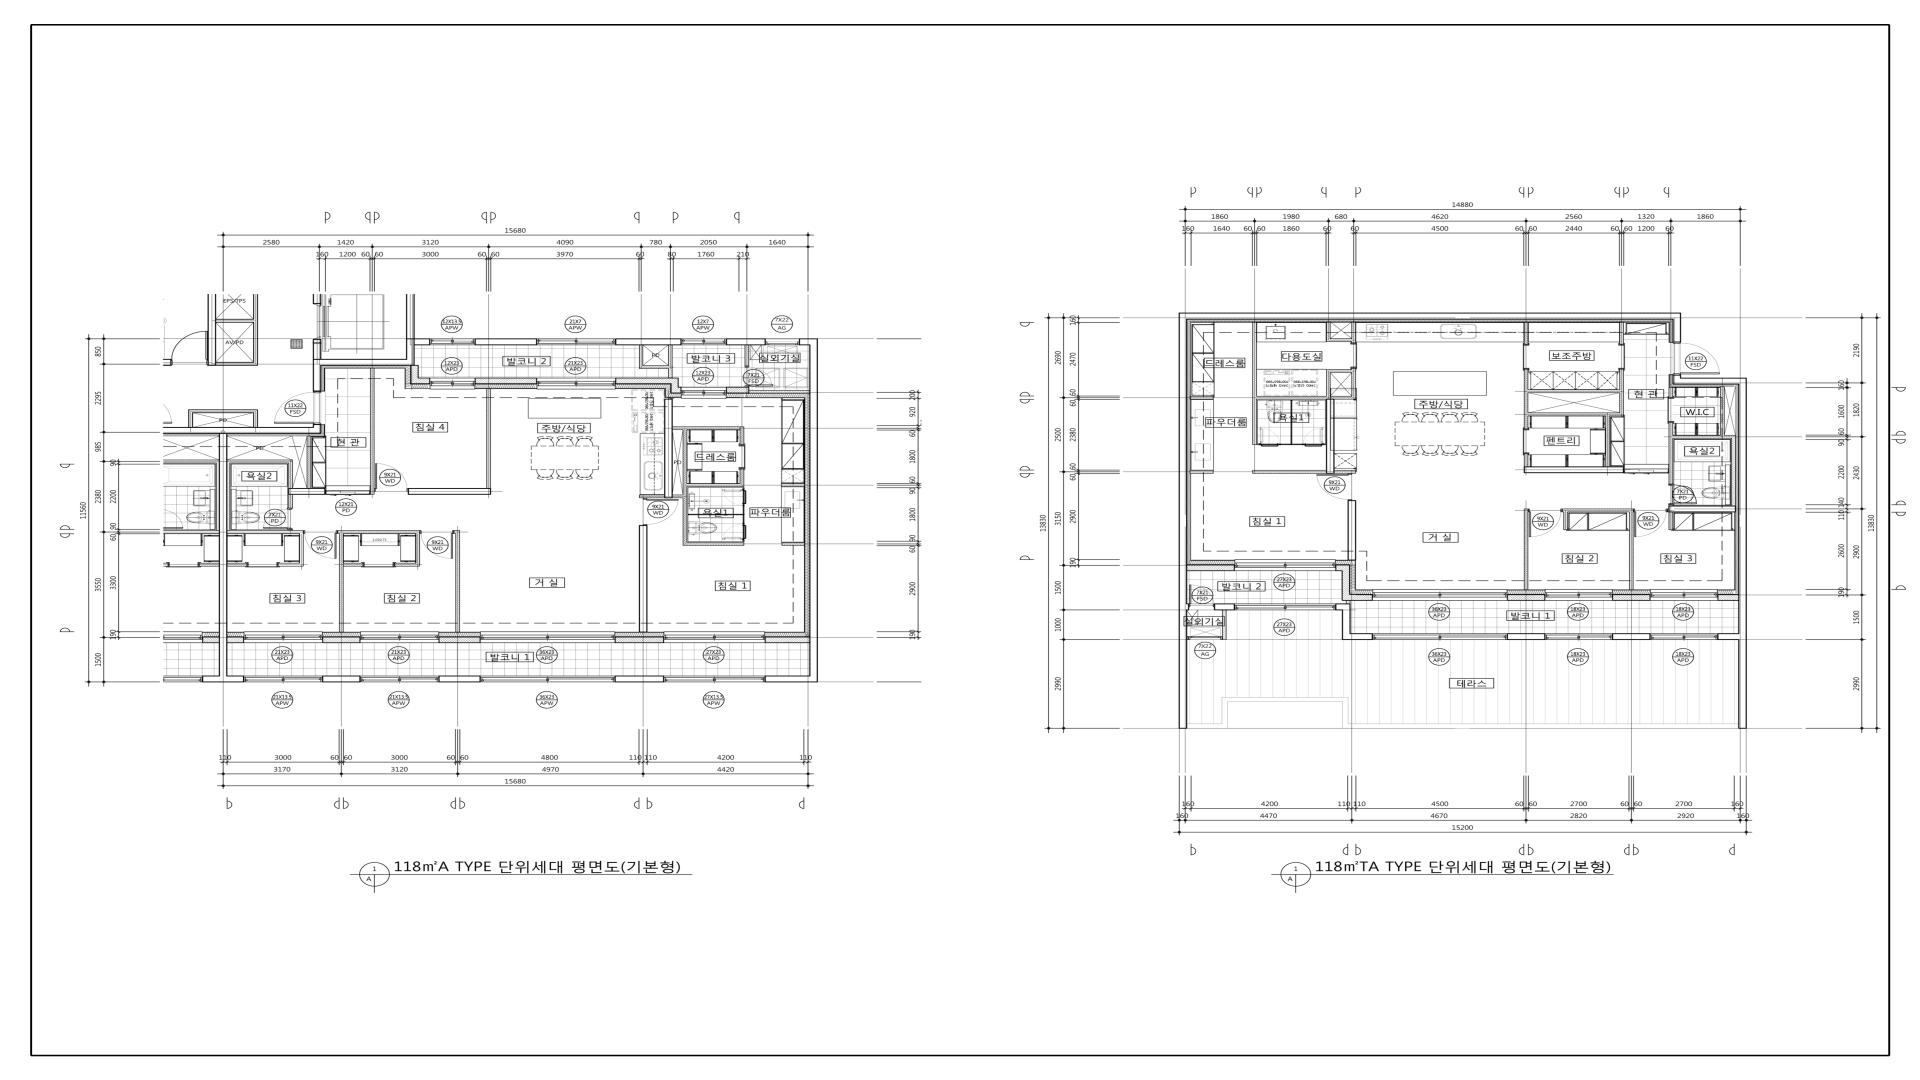door: (273, 392, 315, 424), (1679, 343, 1720, 374), (1316, 474, 1352, 500), (1529, 510, 1562, 538), (643, 499, 679, 524), (375, 463, 407, 491), (1634, 511, 1667, 538), (304, 532, 336, 559), (421, 532, 453, 559), (262, 509, 289, 529), (1189, 585, 1214, 605), (1671, 485, 1697, 504), (747, 367, 773, 386), (721, 490, 746, 506), (722, 524, 746, 540), (1303, 427, 1323, 446), (1261, 427, 1281, 446), (326, 490, 370, 495), (1624, 469, 1669, 473), (1618, 345, 1625, 369), (1350, 344, 1357, 368), (739, 445, 746, 469), (363, 562, 395, 567), (247, 562, 278, 567), (1523, 429, 1529, 454), (1523, 344, 1529, 369), (1668, 398, 1674, 422)
wall: (1179, 313, 1681, 640), (1673, 375, 1747, 640), (765, 338, 818, 682), (218, 434, 244, 683), (313, 338, 415, 392), (163, 424, 321, 434), (1335, 603, 1373, 640), (615, 378, 682, 393), (639, 525, 648, 632), (664, 398, 673, 498), (453, 530, 460, 632), (1326, 399, 1335, 474), (207, 294, 216, 366), (1252, 322, 1257, 445), (1524, 467, 1624, 473), (408, 488, 491, 495), (1347, 500, 1356, 560), (370, 368, 374, 494), (486, 389, 491, 488), (339, 534, 344, 632), (683, 430, 687, 546), (1668, 506, 1736, 512), (406, 294, 415, 339), (615, 339, 682, 345), (1629, 509, 1634, 589), (410, 365, 430, 384), (475, 339, 537, 345), (475, 378, 537, 384), (1528, 389, 1620, 393), (1731, 438, 1736, 506), (253, 294, 258, 362), (337, 530, 420, 534), (1524, 509, 1528, 590), (227, 530, 303, 534), (1252, 470, 1326, 474), (1257, 396, 1331, 400), (615, 676, 664, 682), (615, 637, 664, 643), (1187, 565, 1235, 571), (1528, 413, 1624, 416), (726, 338, 766, 345), (1612, 633, 1651, 640), (1341, 571, 1350, 601), (765, 637, 810, 643), (673, 426, 740, 430), (1612, 594, 1650, 601), (1507, 633, 1545, 640), (288, 488, 326, 495), (193, 409, 258, 413), (438, 676, 481, 682), (1605, 416, 1610, 467), (439, 637, 481, 643), (1669, 422, 1673, 484), (1720, 386, 1725, 435), (749, 390, 810, 394), (1524, 369, 1528, 429), (322, 637, 361, 643), (1507, 595, 1545, 601), (687, 483, 744, 487), (687, 542, 744, 546), (322, 676, 360, 682), (1619, 369, 1624, 413), (307, 436, 311, 488), (1562, 509, 1629, 512), (227, 463, 230, 530), (227, 460, 293, 463), (1673, 435, 1736, 438), (216, 362, 258, 366), (415, 534, 420, 567), (668, 345, 673, 378), (1350, 594, 1373, 601), (726, 387, 749, 394), (313, 339, 321, 359), (1222, 610, 1227, 640), (216, 319, 253, 323), (299, 534, 304, 563), (1718, 594, 1738, 601), (1351, 368, 1356, 396), (1290, 399, 1293, 444), (1326, 369, 1331, 396), (1523, 323, 1529, 344), (1214, 604, 1235, 610), (288, 463, 293, 488), (1619, 323, 1624, 345), (1351, 322, 1356, 344), (415, 338, 430, 345), (1326, 338, 1352, 342), (227, 637, 244, 643), (279, 563, 304, 567), (643, 365, 668, 369), (1336, 564, 1350, 571), (1190, 396, 1214, 400), (639, 345, 643, 369), (1190, 470, 1213, 474), (782, 542, 805, 546), (781, 483, 804, 487), (1563, 512, 1568, 530), (188, 409, 193, 427), (1335, 470, 1356, 474), (745, 345, 749, 366), (1331, 369, 1351, 373), (313, 294, 321, 304), (395, 563, 415, 567), (740, 426, 744, 445), (344, 563, 363, 567), (1331, 396, 1356, 399), (639, 495, 664, 498), (1669, 512, 1673, 530), (253, 413, 258, 427), (288, 495, 293, 508), (1326, 322, 1330, 338), (163, 359, 172, 366), (227, 563, 247, 566), (740, 469, 744, 483), (687, 514, 743, 515), (742, 506, 745, 524), (1524, 454, 1528, 467), (1669, 387, 1673, 398), (673, 495, 683, 498), (1280, 444, 1303, 445), (1346, 601, 1351, 603)
window: (1373, 589, 1507, 601), (481, 632, 615, 643), (1235, 559, 1336, 571), (664, 632, 765, 643), (1373, 633, 1507, 640), (360, 632, 439, 643), (537, 378, 616, 389), (244, 632, 322, 643), (1650, 589, 1718, 601), (1545, 589, 1612, 601), (481, 676, 615, 682), (664, 676, 765, 682), (1235, 604, 1335, 610), (681, 387, 726, 399), (430, 378, 475, 389), (360, 676, 439, 682), (1545, 633, 1612, 640), (1651, 633, 1718, 640), (244, 676, 322, 682), (537, 339, 615, 345), (681, 338, 726, 345), (430, 339, 475, 345), (766, 339, 799, 345), (1188, 636, 1222, 640)
